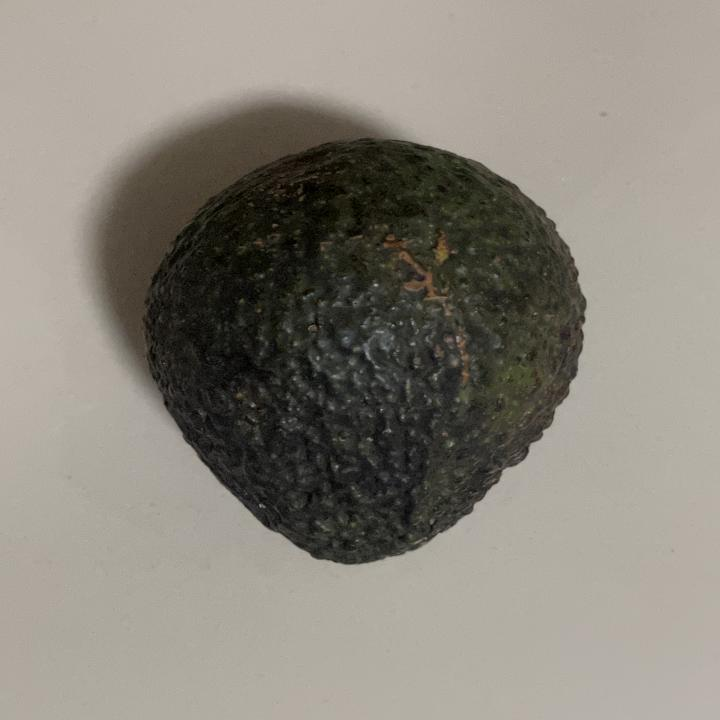Level1: (133, 124, 606, 576)
